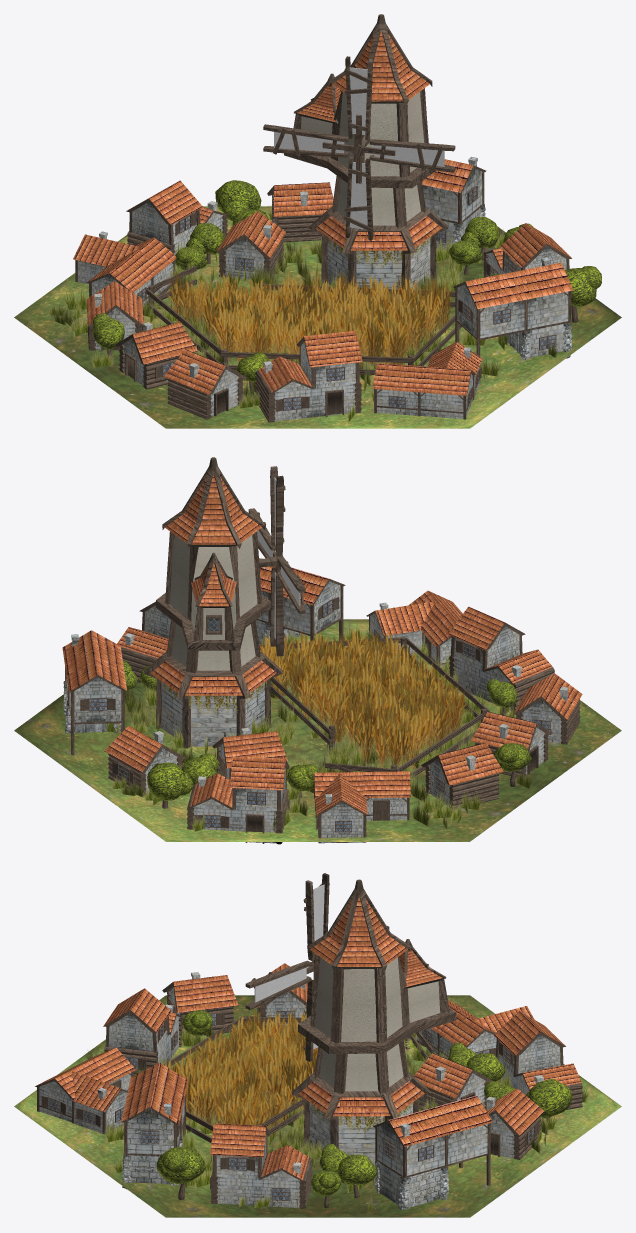
The model's file is Farm_2_0.glb.
3 renders of one model, top to bottom at view 1: azimuth 30°, elevation 25°; view 2: azimuth 150°, elevation 25°; view 3: azimuth 270°, elevation 25°, orthographic.
Parts seen in each view (by area): view 1: farm.001, farm.005, farm.003, farm.002, farm; view 2: farm.001, farm.005, farm.003, farm, farm.002; view 3: farm.001, farm.005, farm.003, farm, farm.002.
Part boxes in pixels (x1=…): farm.001: x1=14, y1=14, x2=621, y2=428; farm.005: x1=73, y1=156, x2=573, y2=422; farm.003: x1=177, y1=268, x2=450, y2=363; farm.002: x1=263, y1=56, x2=455, y2=240; farm: x1=92, y1=180, x2=601, y2=393; farm.001: x1=14, y1=457, x2=621, y2=841; farm.005: x1=62, y1=558, x2=582, y2=844; farm.003: x1=262, y1=629, x2=455, y2=764; farm: x1=122, y1=660, x2=531, y2=808; farm.002: x1=248, y1=466, x2=305, y2=656; farm.001: x1=14, y1=879, x2=621, y2=1217; farm.005: x1=35, y1=963, x2=582, y2=1209; farm.003: x1=179, y1=1007, x2=318, y2=1137; farm: x1=156, y1=1010, x2=572, y2=1208; farm.002: x1=245, y1=873, x2=389, y2=1061.
Bounding box in the file's own units: 2.6 × 1.53 × 3.
Materials: 8 (8 with a texture image).
